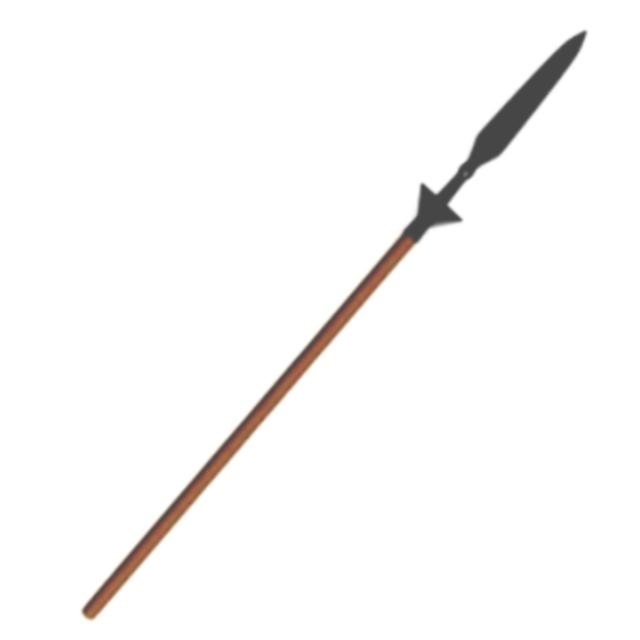spear: (68, 14, 610, 628)
